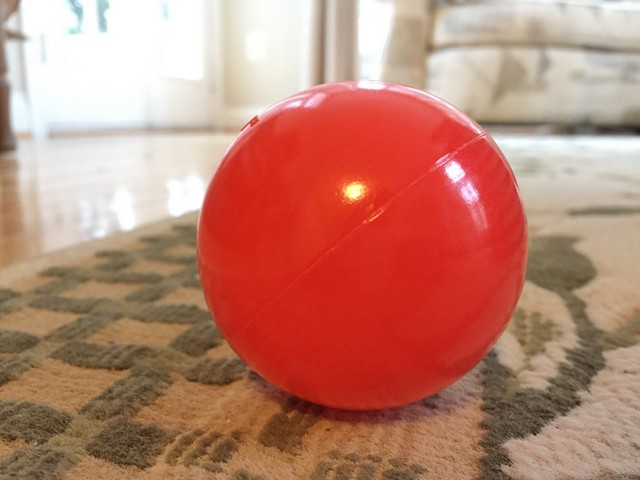Ball: (207, 76, 527, 407)
